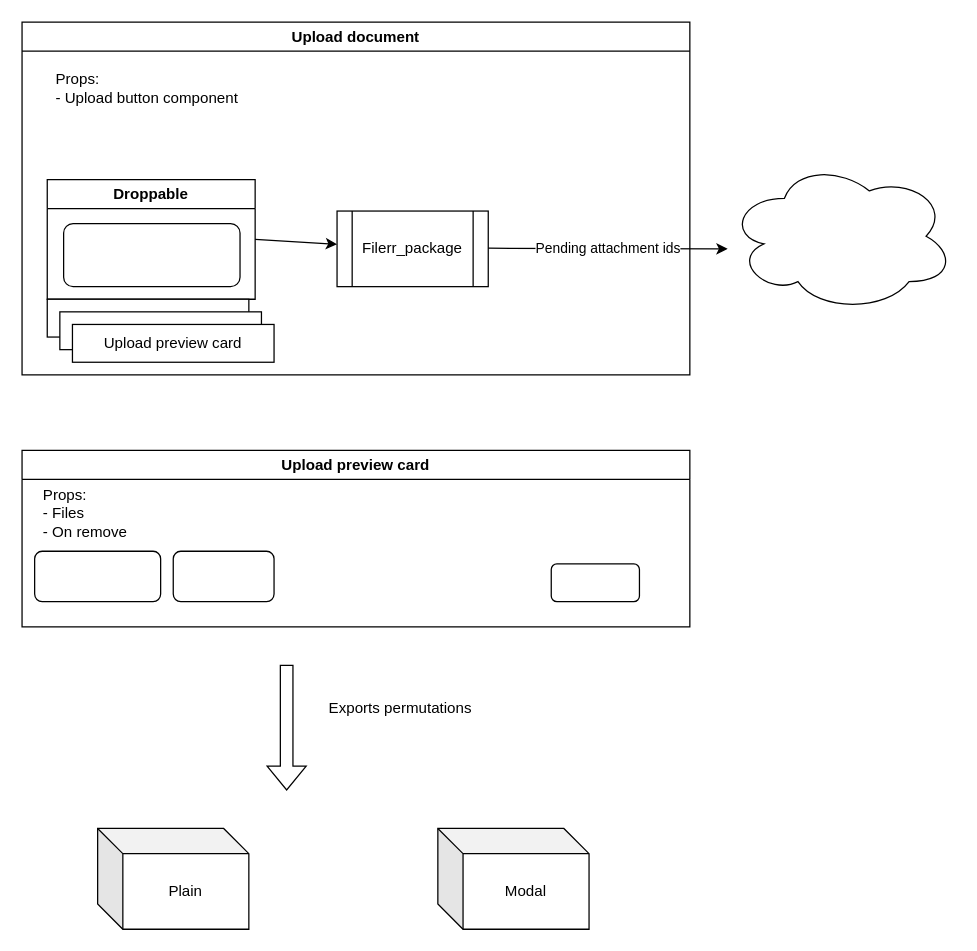
Image size: 977x951. Some labels were removed from this diagram. Here are the shapes that lost their labels. From the top down, the centre of each, then its label:
(151,254): Upload button component
(840,235): Legal docs pegasus
(97,576): Status color
(223,576): File icon
(594,582): Remove
